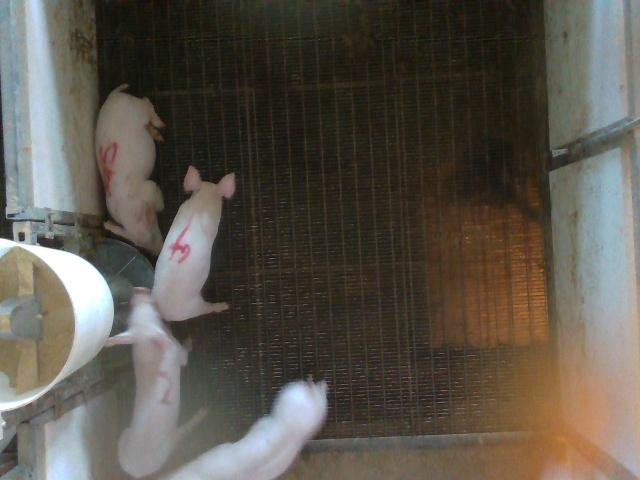pig-2: (109, 288, 188, 477)
pig-4: (151, 166, 235, 321)
pig-5: (96, 84, 164, 254)
